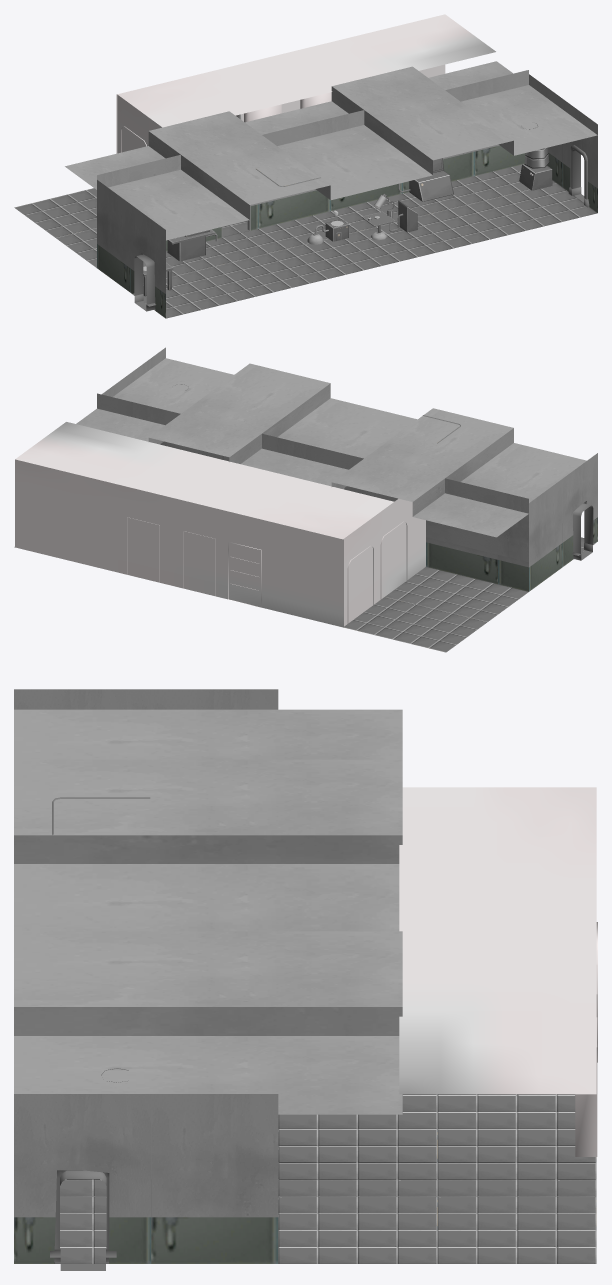
File: MSH_Science_Lab_room_L1_R3_optimized.fbx
3 renders of one model, top to bottom at view 1: azimuth 30°, elevation 25°; view 2: azimuth 150°, elevation 25°; view 3: azimuth 270°, elevation 25°, orthographic. The views are drawn at different scales.
Visible parts, largest first — view 1: lightmap0, lightmap-1; view 2: lightmap0, lightmap-1; view 3: lightmap0.
Boxes of the visible parts, x1=… form: lightmap0: x1=14, y1=14, x2=597, y2=318; lightmap-1: x1=134, y1=149, x2=584, y2=311; lightmap0: x1=14, y1=347, x2=597, y2=652; lightmap-1: x1=573, y1=503, x2=593, y2=560; lightmap0: x1=14, y1=689, x2=597, y2=1263.
Size of the model in its own units: 30.91 by 6.25 by 18.24.
